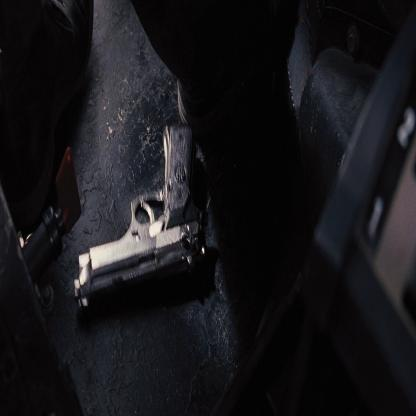gun: (69, 107, 210, 334)
